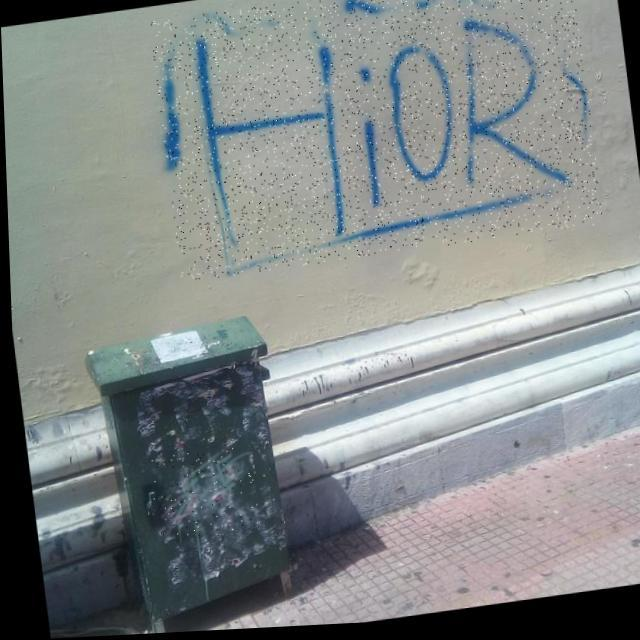-: (148, 0, 602, 285), (144, 444, 256, 542)
